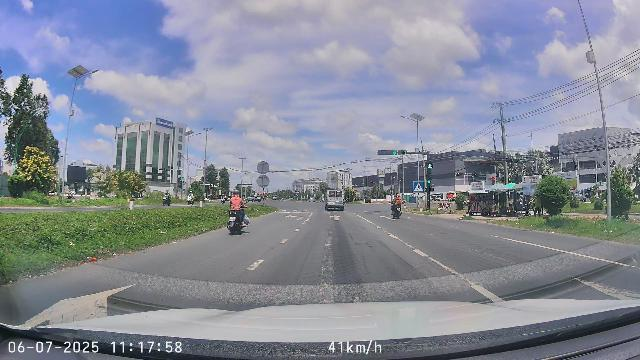423a-duong-nguoi-di-bo-sang-ngang-1: (413, 181, 424, 193)
